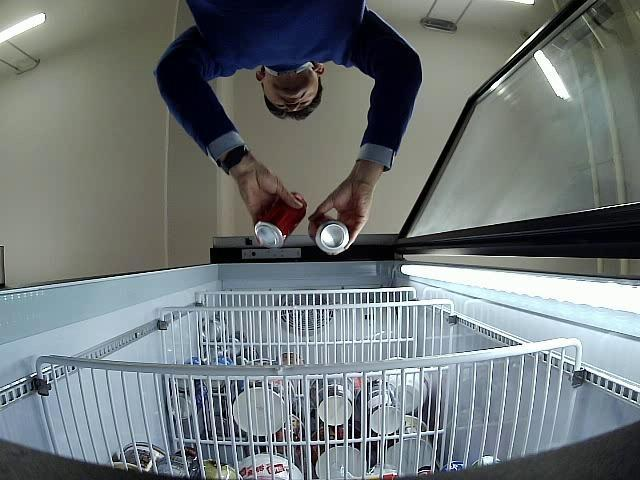11_cocaColaZero: (255, 192, 308, 248), (308, 213, 349, 256)
